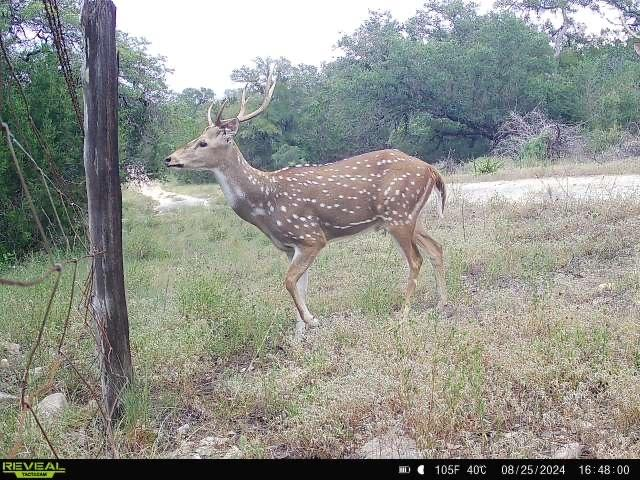Deer: (166, 64, 445, 330)
